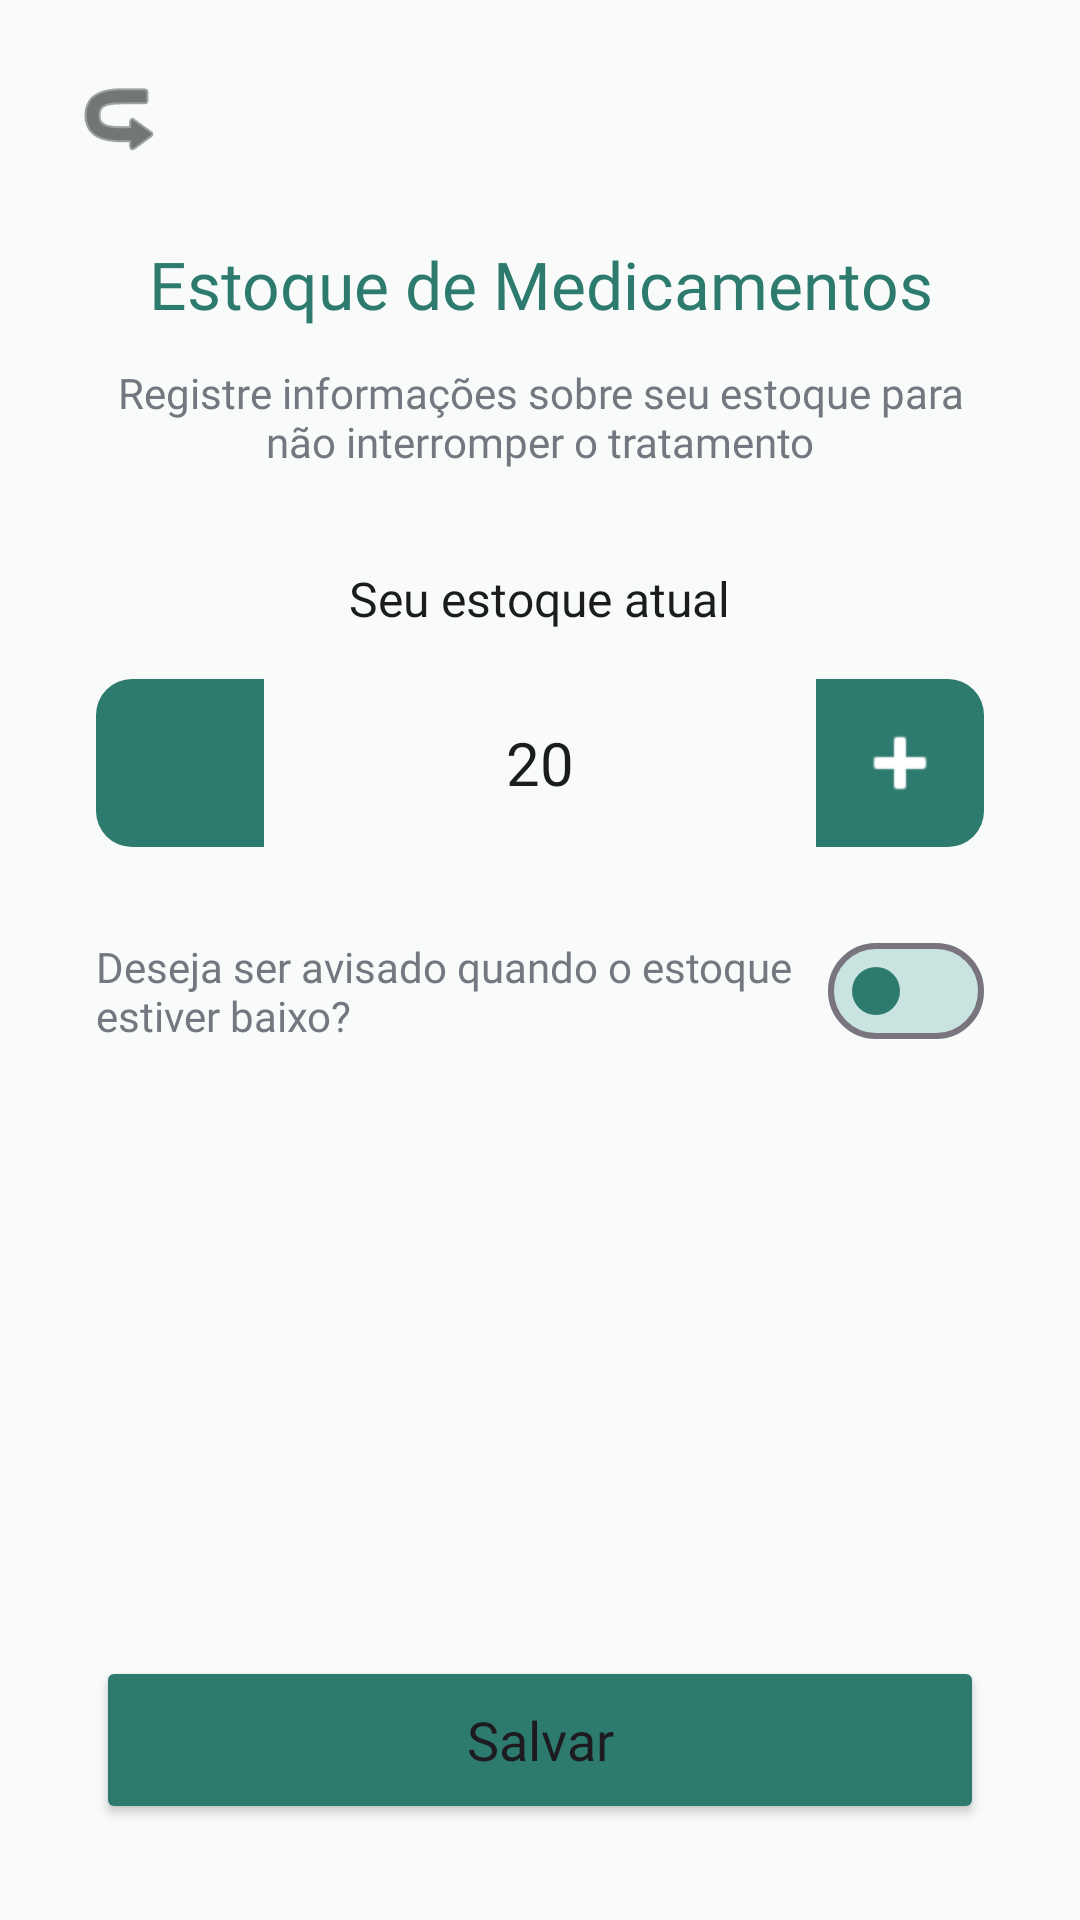

Named icons in this screenshot (1080 x 1920) and their bounding boxes, (x1, y1, x2, y2):
add: (816, 679, 984, 847)
